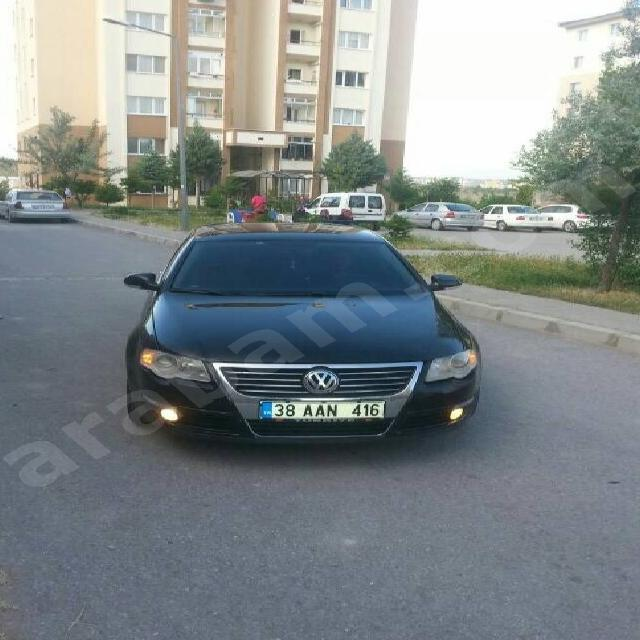license_plate: (258, 401, 384, 418)
